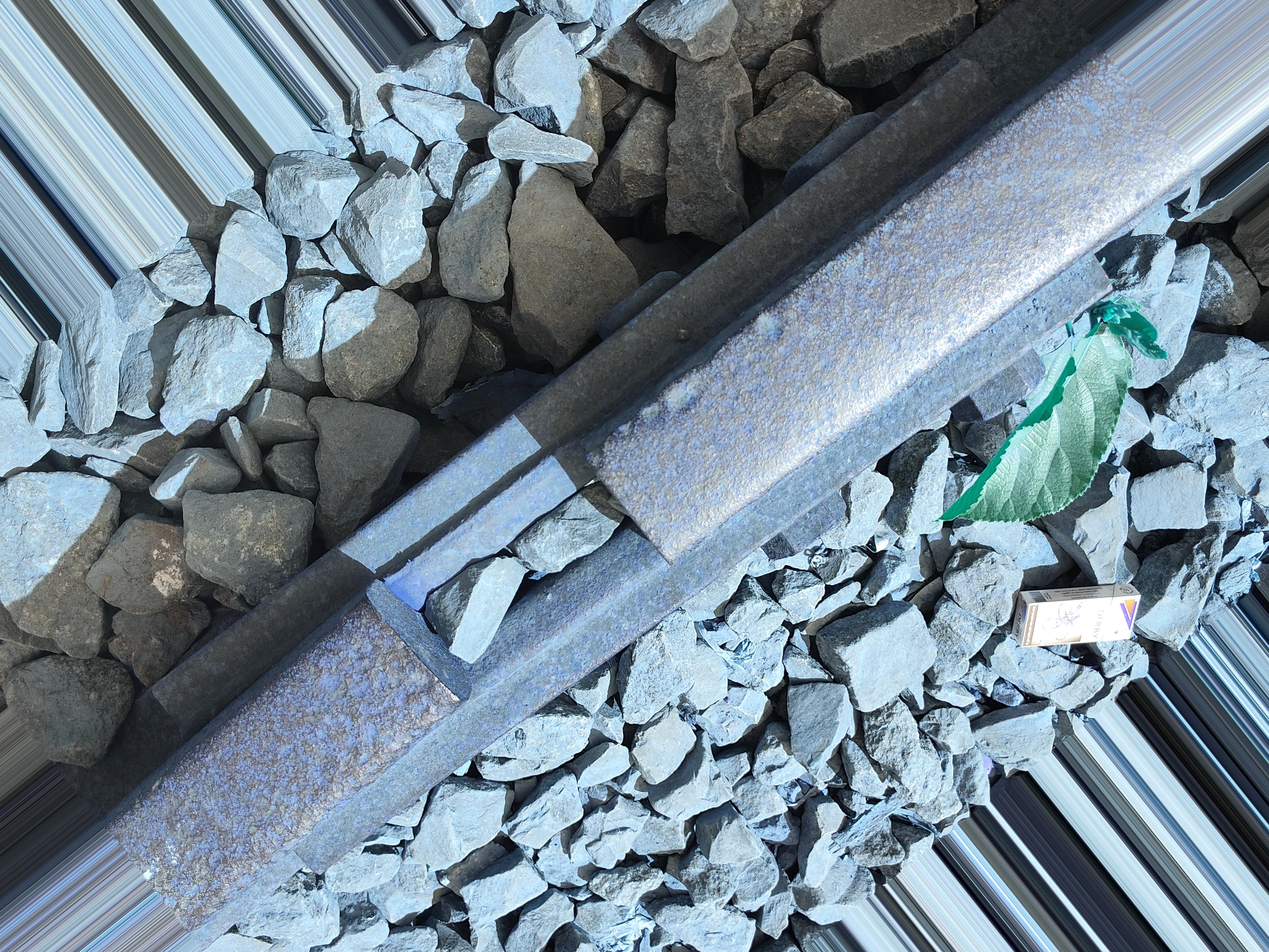tracks_fault: (263, 397, 737, 777)
